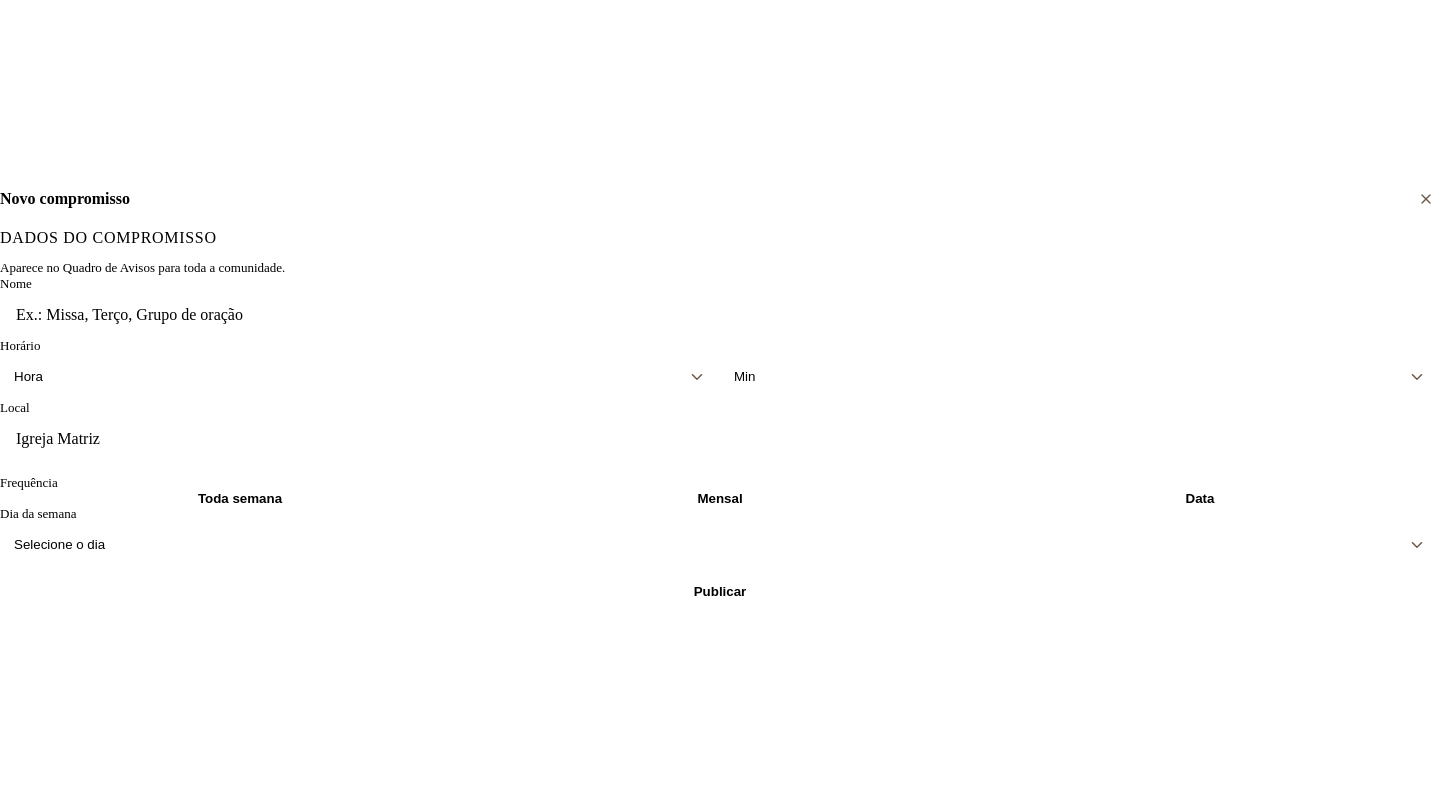
Scenario: ModalCommitmentForm sem module mock › valida os campos obrigatórios sem tocar na API
What coordinates should you click on to do the following:
click the button "Publicar"
I would click on:
 (720, 592)
Its box is [0,568,1439,616].
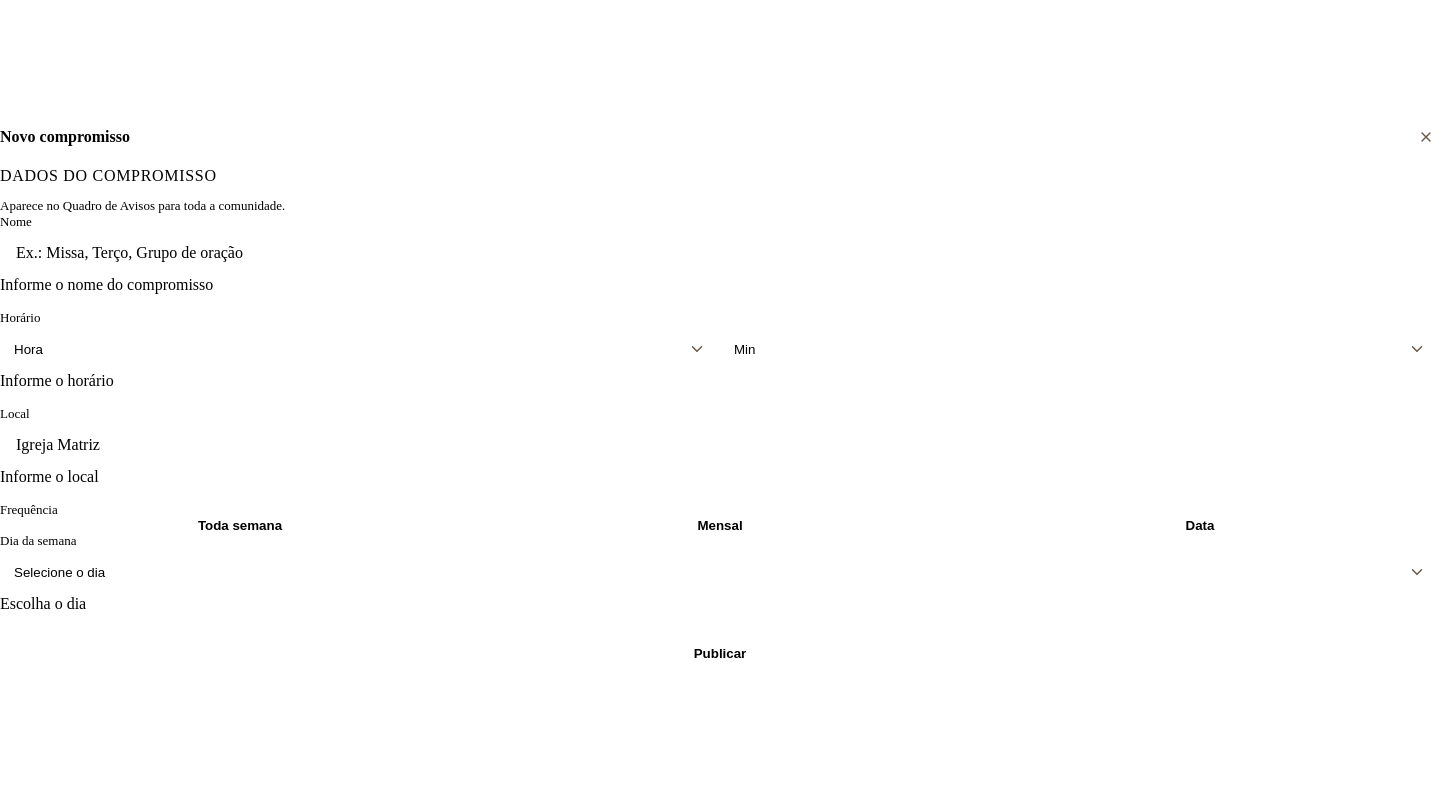
Now the text "Informe o nome do compromisso" is shown, box [0,276,213,293]
Now the text "Informe o horário" is shown, box [0,372,114,389]
Now the text "Informe o local" is shown, box [0,468,99,485]
